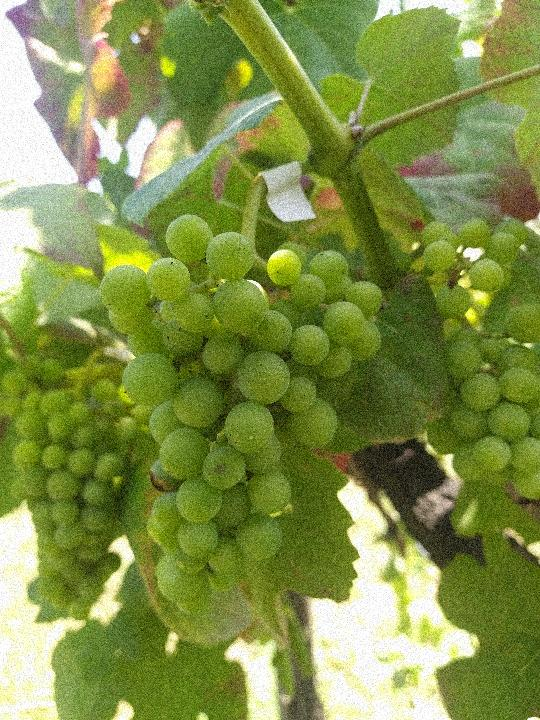grape: (92, 209, 383, 615), (4, 354, 151, 622)
